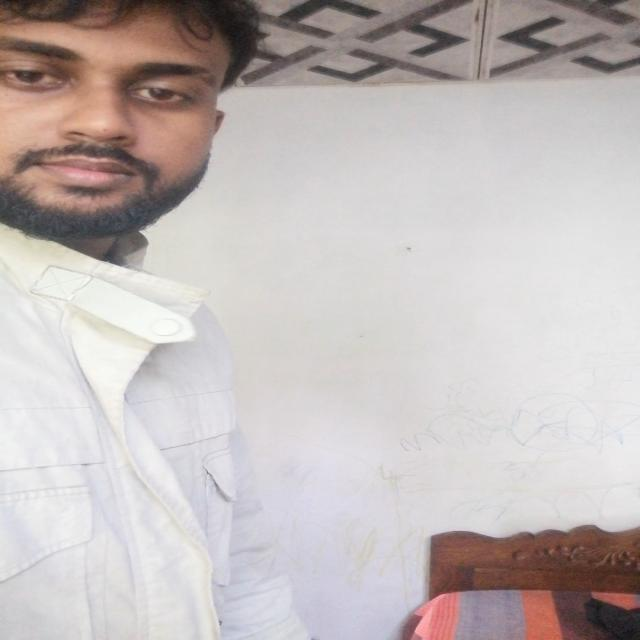Jacket_Wearer: (0, 205, 321, 629)
Person: (9, 0, 382, 640)
